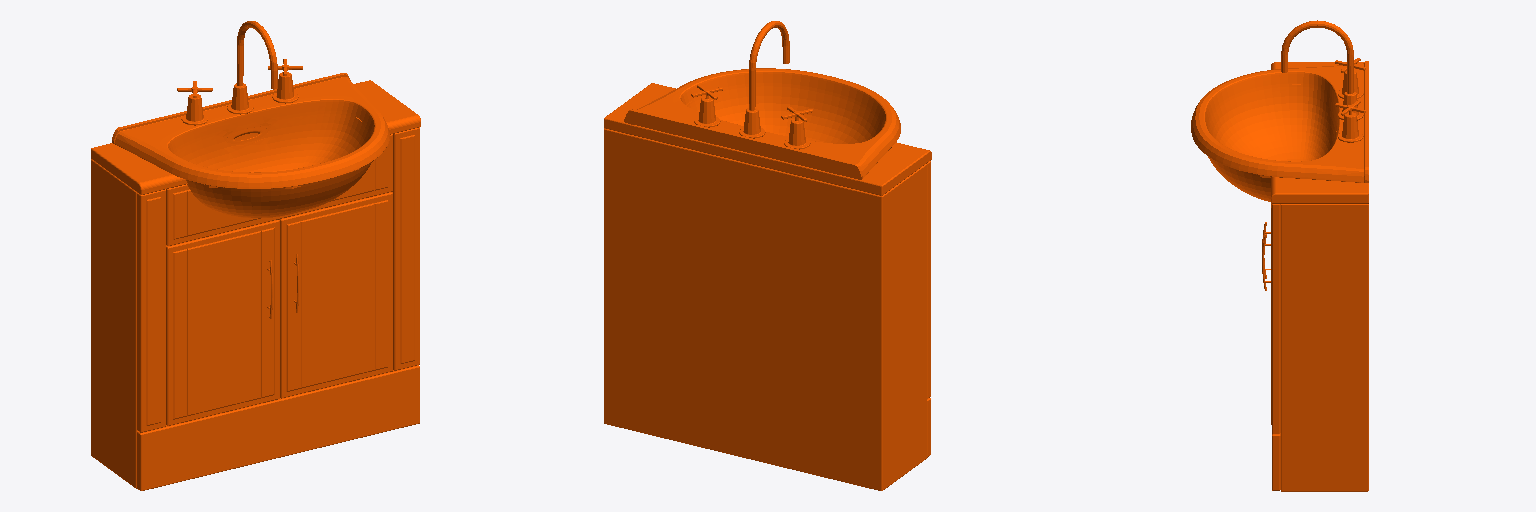
robot.urdf — Sink_ee9136090b140ace3f7a74e12a274ef:
<?xml version="1.0" ?>
<robot name="Sink_ee9136090b140ace3f7a74e12a274ef">
   <material name="obj_color">
      <color rgba="1.0 0.423529411765 0.0392156862745 1.0"/>
   </material>
   <link name="top">
      <inertial>
         <origin rpy="6.370734955595363e-05 9.958936167900902e-05 0.000140344585856962" xyz="0.000208668430970665 0.002166812089919964 -0.009856801846047113"/>
         <mass value="0.1561908575009271"/>
         <inertia ixx="9.958936138920351e-05" ixy="-3.016940957394738e-09" ixz="-4.694746951135257e-09" iyy="0.0001400081797959102" iyz="5.066363677701644e-06" izz="6.404375590681092e-05"/>
      </inertial>
      <visual>
         <origin rpy="0 0 0" xyz="0 0 0"/>
         <geometry>
            <mesh filename="top_watertight_tiny.stl" scale="1 1 1"/>
         </geometry>
         <material name="obj_color"/>
      </visual>
      <collision>
         <origin rpy="0 0 0" xyz="0 0 0"/>
         <geometry>
            <mesh filename="top_watertight_tiny.obj" scale="1 1 1"/>
         </geometry>
      </collision>
   </link>
   <link name="bottom">
      <inertial>
         <origin rpy="1.633333333199431e-08 1.633333333199431e-08 1.633333333362855e-08" xyz="0.3464080000000008 0.3464080000000008 0.3464080000000008"/>
         <mass value="0.0009800000000000017"/>
         <inertia ixx="1.633333333253906e-08" ixy="5.447480642029219e-19" ixz="5.447480642029219e-19" iyy="1.633333333253906e-08" iyz="5.447480642029219e-19" izz="1.633333333253906e-08"/>
      </inertial>
      <visual>
         <origin rpy="0 0 0" xyz="0 0 0"/>
         <geometry>
            <mesh filename="bottom_watertight_tiny.stl" scale="1 1 1"/>
         </geometry>
         <material name="obj_color"/>
      </visual>
   </link>
   <joint name="rotation" type="revolute">
      <origin xyz="0 0 0"/>
      <axis xyz="0 0 -1"/>
      <parent link="bottom"/>
      <child link="top"/>
      <dynamics damping="1.0" friction="1.0"/>
      <limit effort="0.1" velocity="0.1" lower="0" upper="0.001"/>
   </joint>
</robot>

--- Facts derived from the render (not from the file) ---
The picture shows the robot from 3 angles, left to right: view 1: azimuth 30°, elevation 25°; view 2: azimuth 150°, elevation 25°; view 3: azimuth 270°, elevation 25°; orthographic projection.
Model Sink_ee9136090b140ace3f7a74e12a274ef with 2 links and 1 joints (1 revolute), rooted at bottom, posed every joint at zero.
Visible links, largest first — view 1: top; view 2: top; view 3: top.
Boxes of the visible links, x1=… form: top: x1=91, y1=21, x2=420, y2=490; top: x1=604, y1=21, x2=931, y2=490; top: x1=1191, y1=20, x2=1368, y2=491.
Size in the robot's own frame: 0.0685 by 0.0389 by 0.0975 metres.
1 mesh visuals loaded from 2 distinct referenced files (1 binary STL); not drawn: 1 (reference not matched to a file when rendering).
